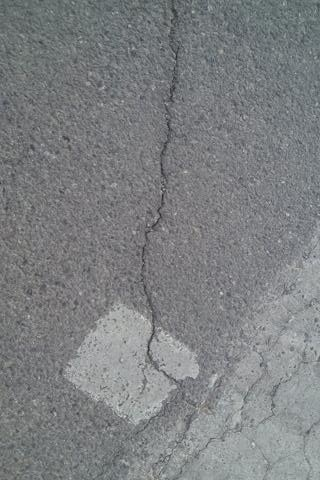A: (138, 1, 184, 440), (201, 348, 320, 477)
